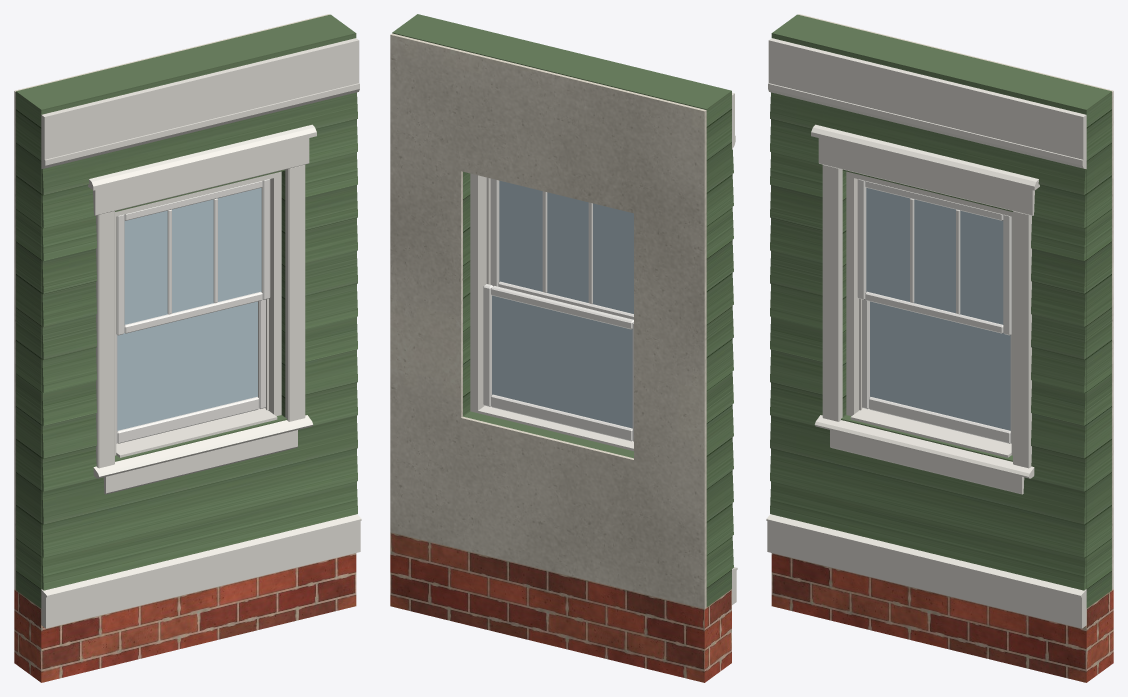
File: wall_siding_window.glb
3 renders of one model, left to right at view 1: azimuth 30°, elevation 25°; view 2: azimuth 150°, elevation 25°; view 3: azimuth 330°, elevation 25°, orthographic.
Visible parts, largest first — view 1: wall_siding_window_siding, wall_siding_window_trim, wall_siding_window_glass, wall_siding_window_brick, wall_siding_window_sash, wall_siding_window_frame, wall_siding_window_plaster; view 2: wall_siding_window_plaster, wall_siding_window_glass, wall_siding_window_brick, wall_siding_window_siding, wall_siding_window_sash, wall_siding_window_frame, wall_siding_window_trim; view 3: wall_siding_window_siding, wall_siding_window_trim, wall_siding_window_glass, wall_siding_window_brick, wall_siding_window_sash, wall_siding_window_frame, wall_siding_window_plaster.
Part boxes in pixels (x1,y1,x2,y2): wall_siding_window_siding: (16, 14, 357, 608); wall_siding_window_trim: (41, 38, 361, 628); wall_siding_window_glass: (117, 188, 261, 430); wall_siding_window_brick: (14, 553, 356, 682); wall_siding_window_sash: (116, 179, 270, 443); wall_siding_window_frame: (115, 171, 281, 455); wall_siding_window_plaster: (14, 14, 329, 589); wall_siding_window_plaster: (390, 33, 706, 608); wall_siding_window_glass: (492, 180, 633, 428); wall_siding_window_brick: (390, 532, 731, 682); wall_siding_window_siding: (392, 14, 733, 606); wall_siding_window_sash: (483, 178, 633, 441); wall_siding_window_frame: (470, 173, 490, 412); wall_siding_window_trim: (478, 92, 737, 604); wall_siding_window_siding: (770, 14, 1111, 608); wall_siding_window_trim: (766, 38, 1086, 628); wall_siding_window_glass: (866, 188, 1010, 430); wall_siding_window_brick: (771, 553, 1113, 682); wall_siding_window_sash: (857, 179, 1011, 443); wall_siding_window_frame: (846, 171, 1012, 455); wall_siding_window_plaster: (798, 14, 1113, 589).
Size of the model in its own units: 2 by 3.48 by 0.382.
Materials: 7 (3 with a texture image).
